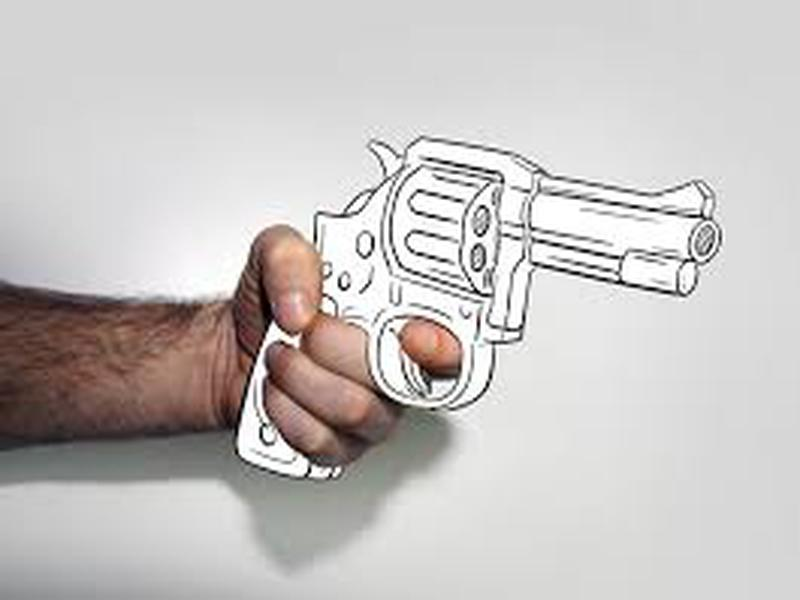gun: (175, 129, 732, 493)
